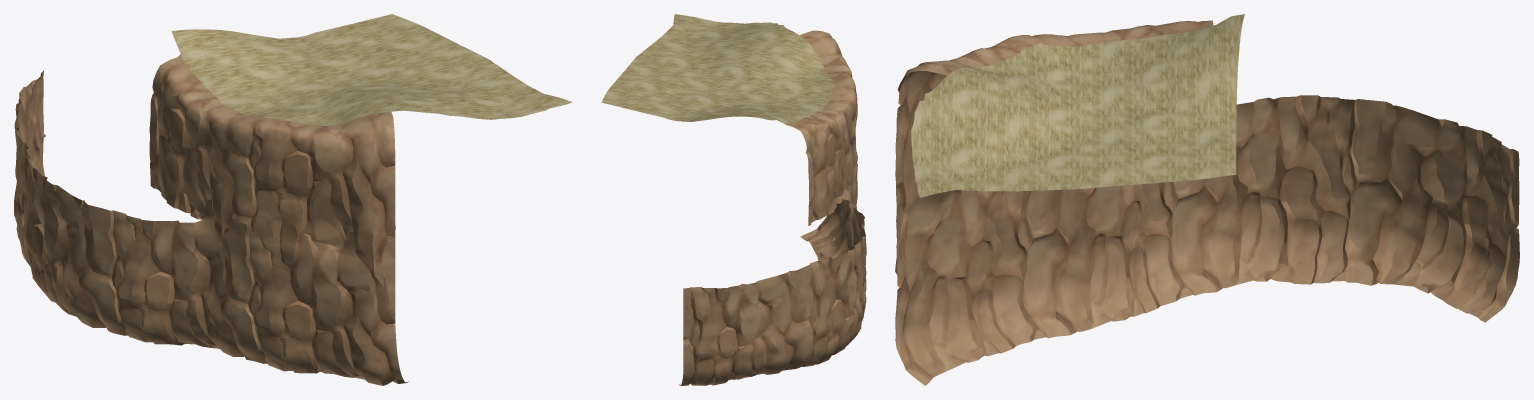
File: SM_ENV_KNFRST_Cliff_Ea.FBX
3 views of the same model, side by side, from view 1: azimuth 30°, elevation 25°; view 2: azimuth 150°, elevation 25°; view 3: azimuth 270°, elevation 25° (orthographic). The views are drawn at different scales.
Visible parts, largest first — view 1: SM_ENV_KNFRST_Cliff_Ea; view 2: SM_ENV_KNFRST_Cliff_Ea; view 3: SM_ENV_KNFRST_Cliff_Ea.
Boxes of the visible parts, x1,y1,x2,y2 form: SM_ENV_KNFRST_Cliff_Ea: (14, 14, 572, 385); SM_ENV_KNFRST_Cliff_Ea: (601, 14, 866, 385); SM_ENV_KNFRST_Cliff_Ea: (895, 14, 1519, 385).
Size of the model in its own units: 4632 by 3233 by 5758.
